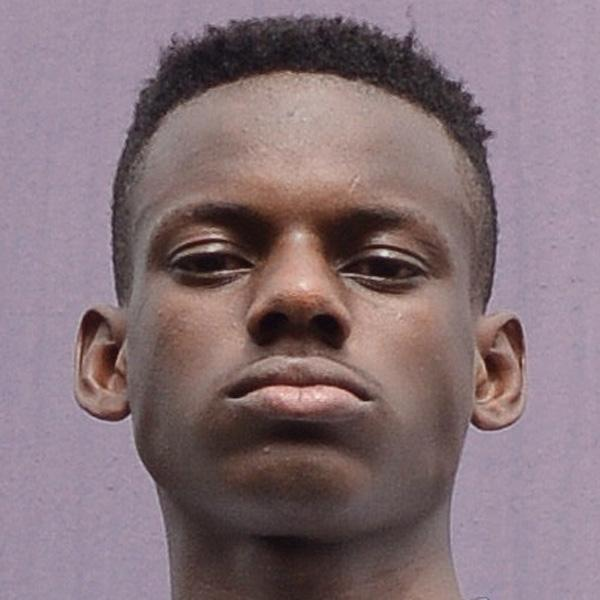Eyes: (325, 229, 444, 302), (160, 228, 259, 291)
